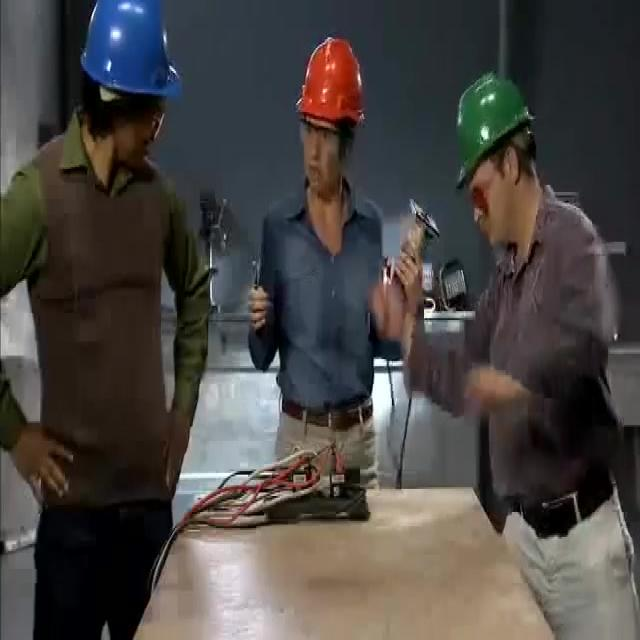Safety-Helmet: (75, 1, 185, 114), (446, 63, 541, 188), (291, 27, 374, 138)
